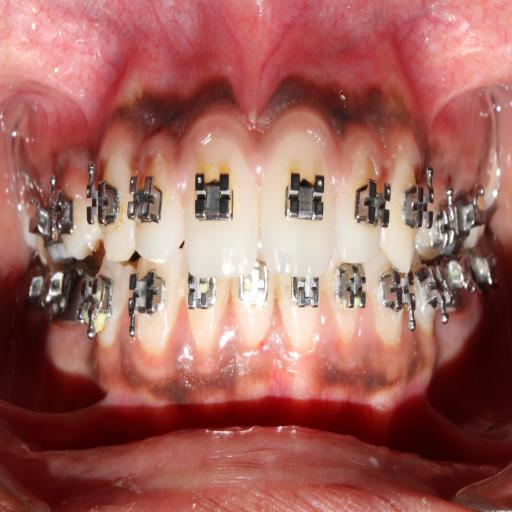correct_brace: (282, 162, 328, 229), (191, 169, 234, 226), (352, 171, 391, 233), (129, 170, 165, 226), (85, 174, 121, 228), (402, 180, 436, 230)
incorrect_brace: (333, 132, 388, 271), (130, 147, 184, 272)
